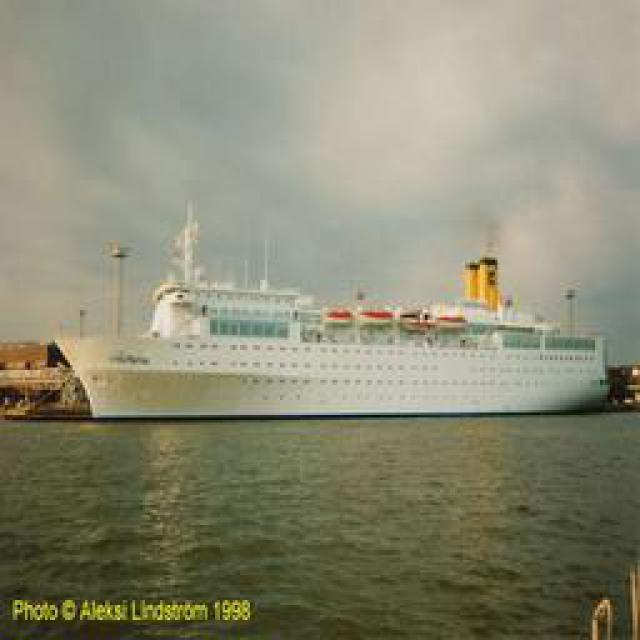Ship: (66, 244, 614, 419)
